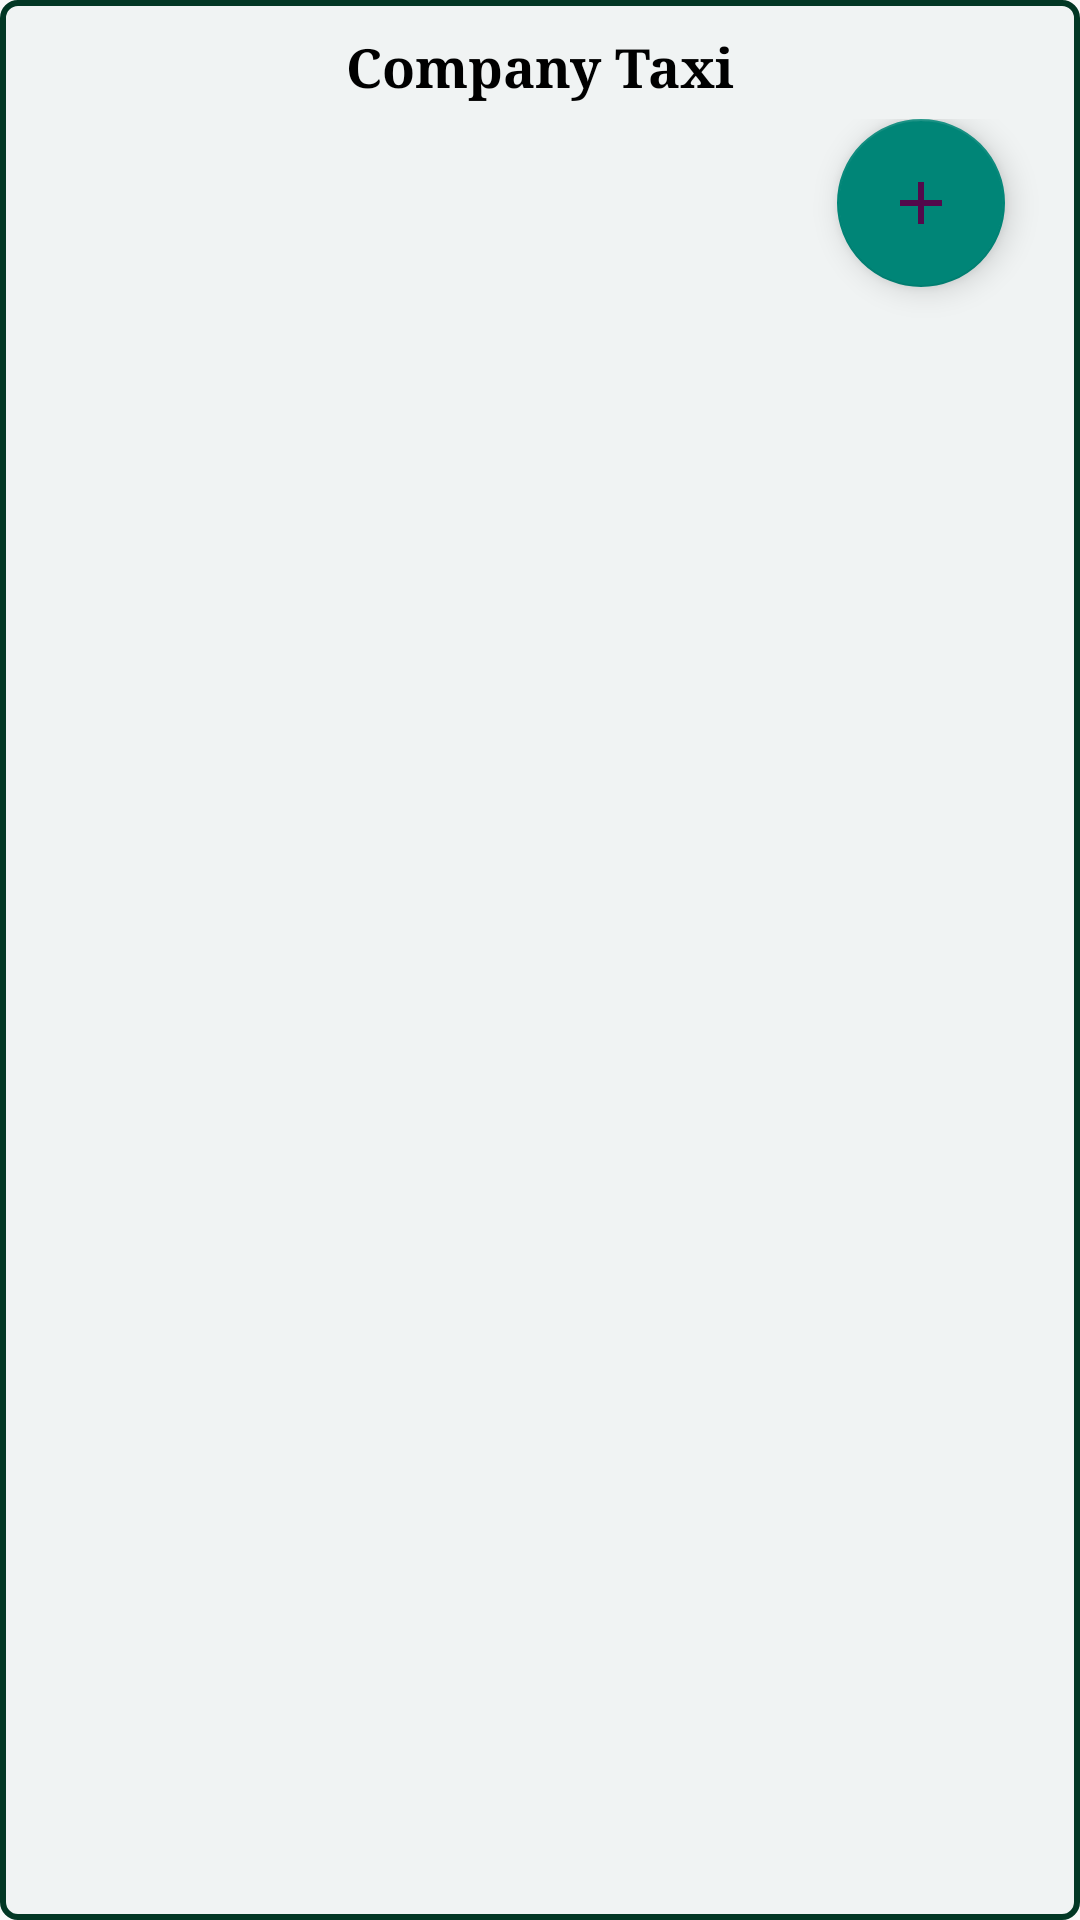

Where to tap for icons on this 1080*1920 app screen, as (x,y):
add: (921,203)
